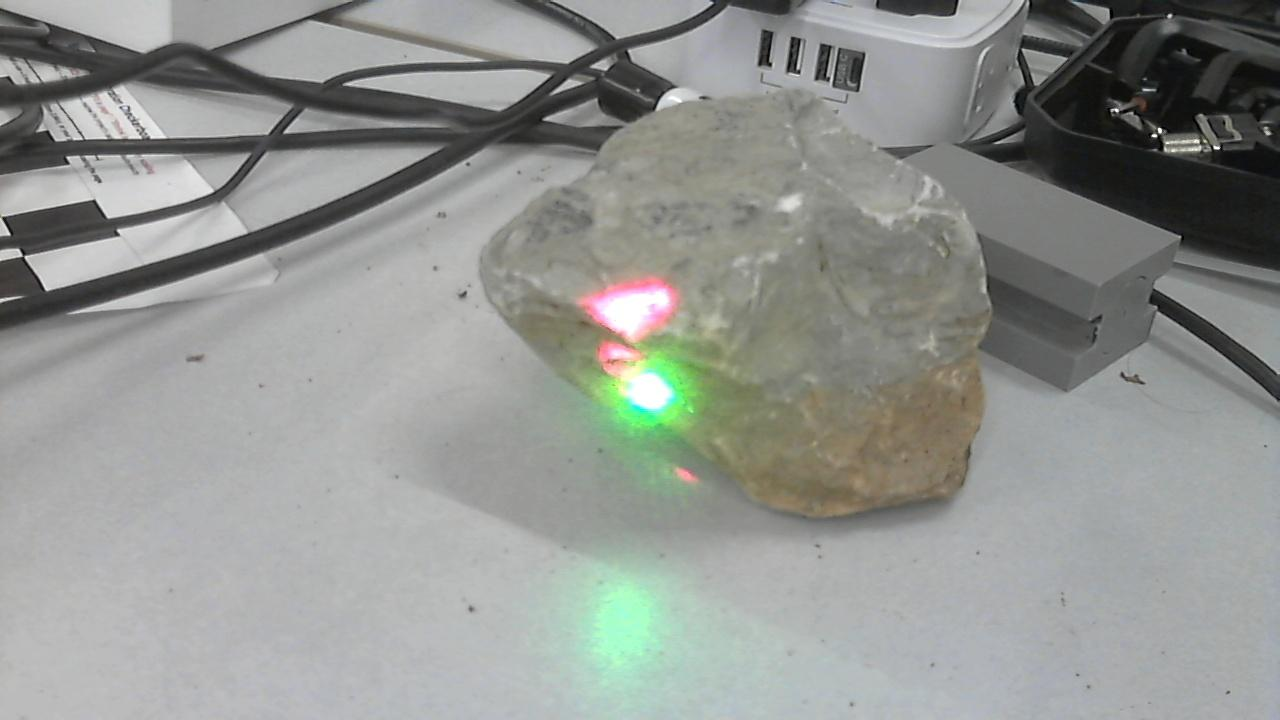Object rock - Material stone - Pdfname as35as4adsa: (579, 277, 694, 427)
